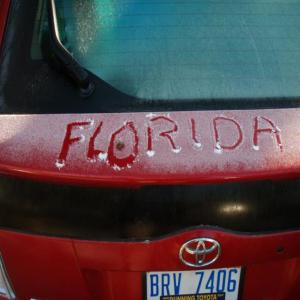Vehicle-registration-plate: (143, 266, 247, 300)
